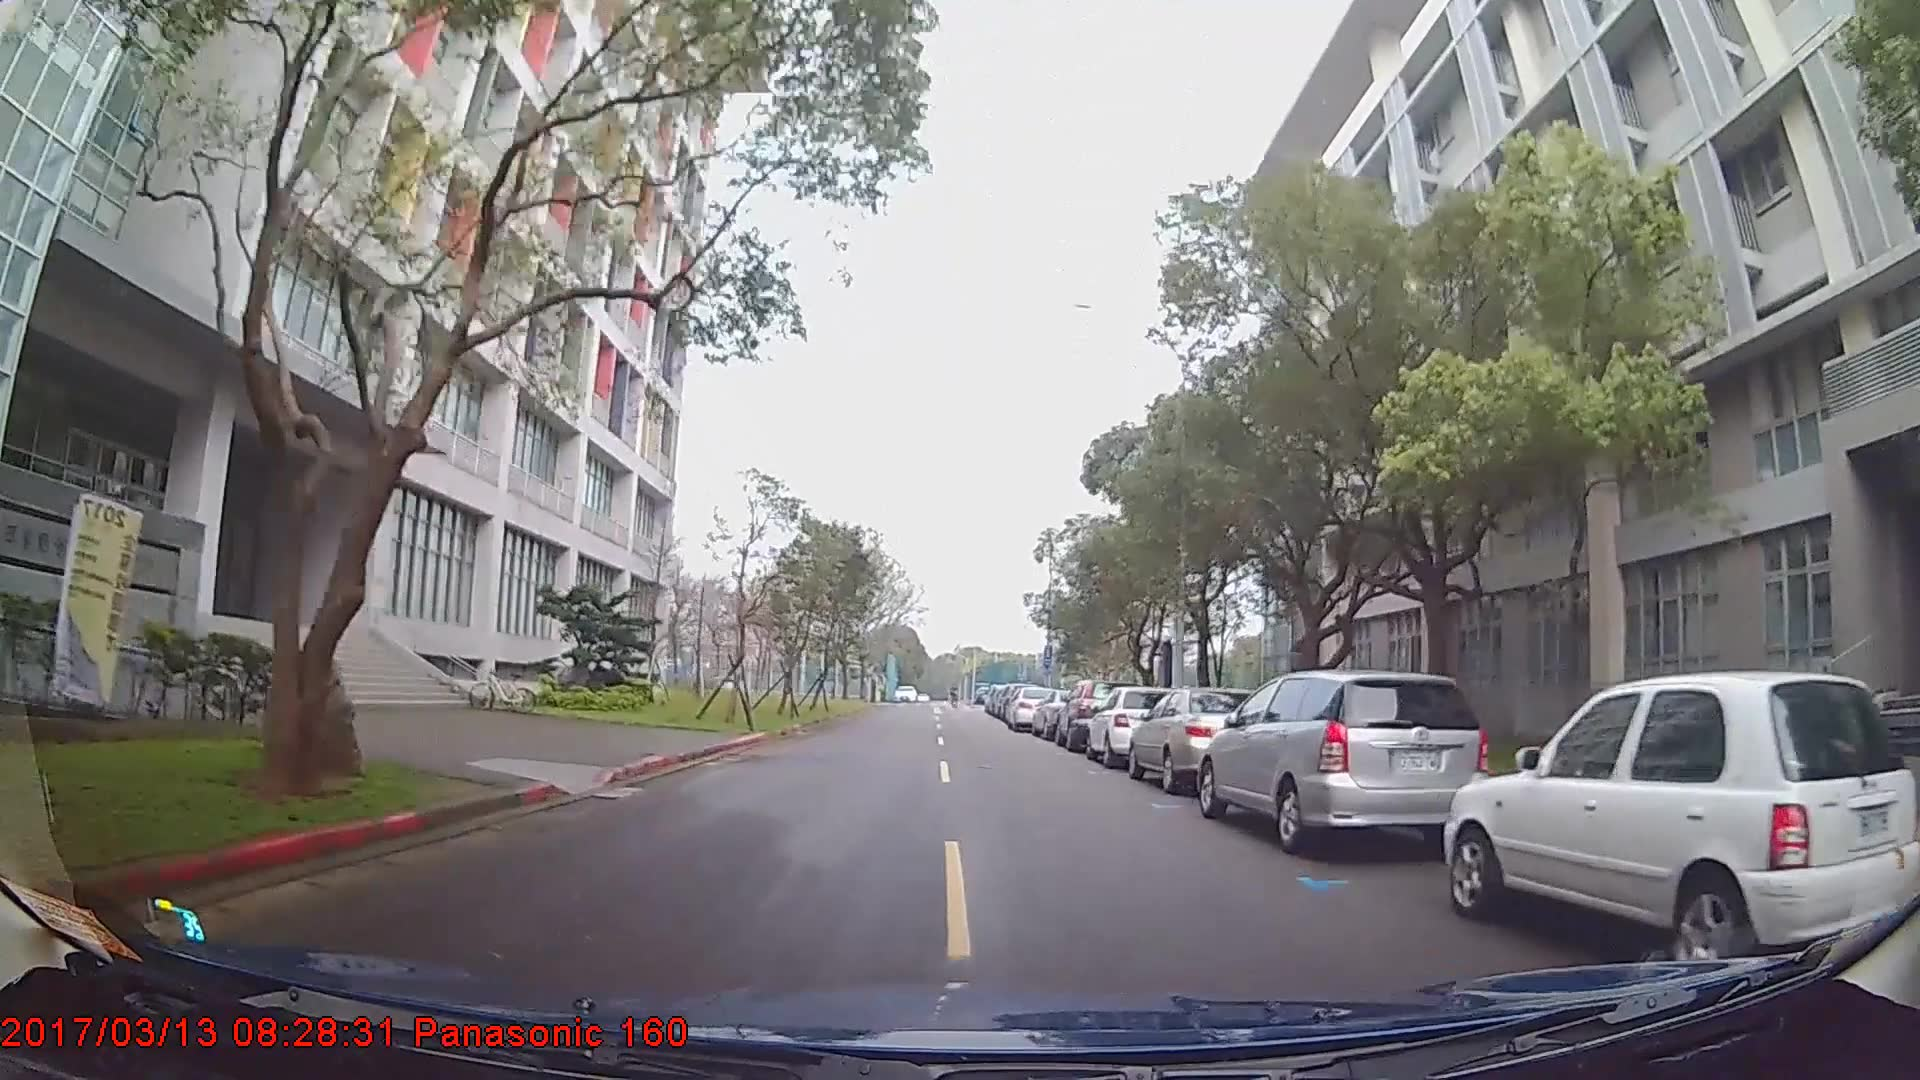vehicle: (1443, 669, 1920, 971), (1196, 669, 1487, 851), (1127, 684, 1279, 791), (1085, 684, 1176, 766), (1002, 683, 1060, 732)
